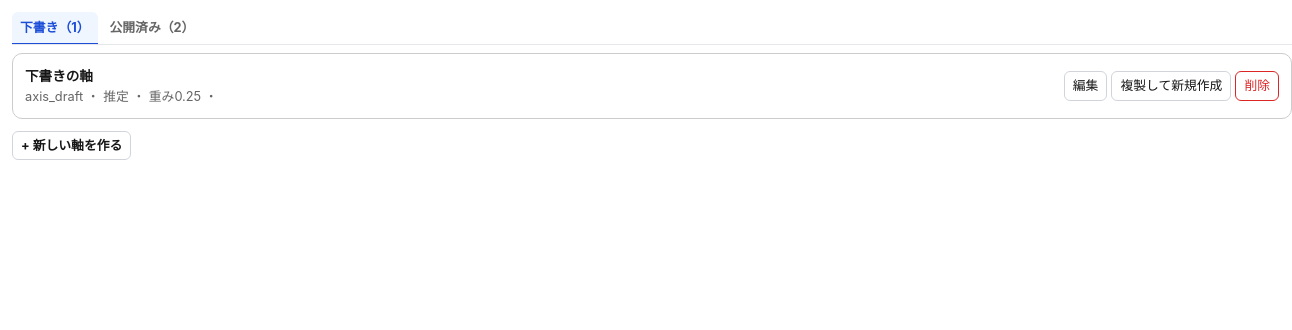
公開済みの軸を「調整する」 › 下書きへ戻せなければ、理由を出してフォームを開かない
Step 1. Click the tab "公開済み（2）" → (152, 29), box x1=102 y1=12 x2=202 y2=45
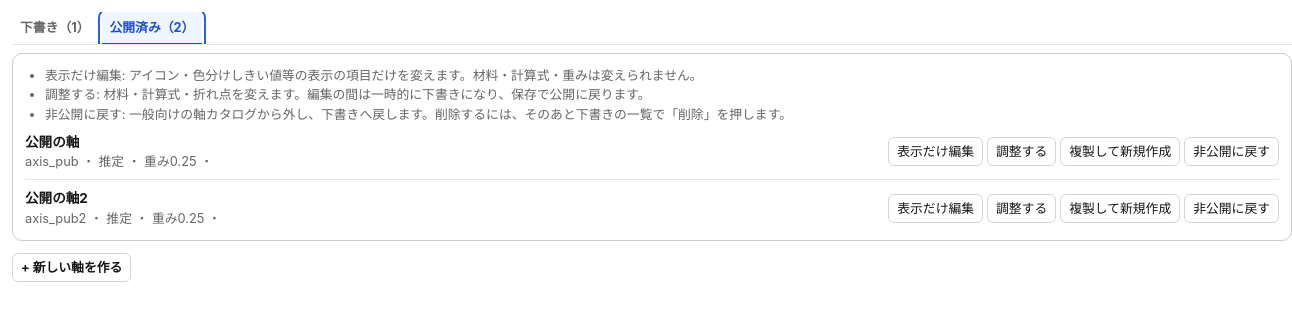
Step 2. Click the 1st button "調整する" → (1022, 152), box x1=987 y1=137 x2=1056 y2=166
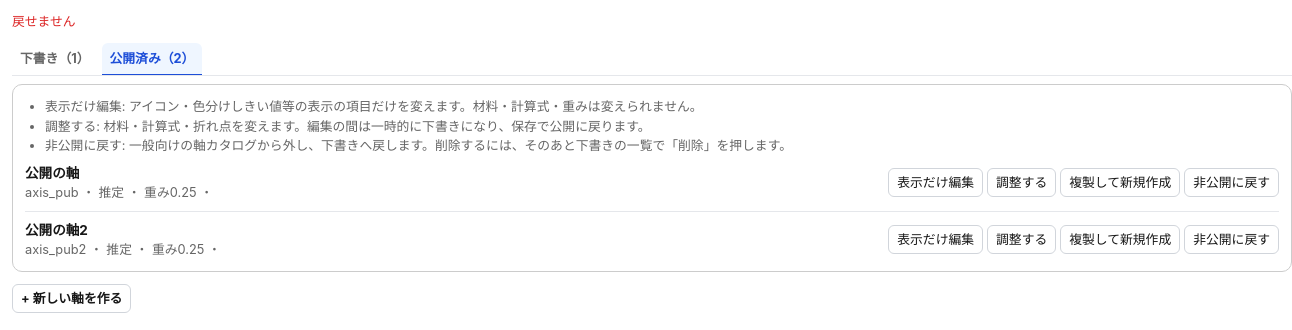
Expected: the text "戻せません" is shown, x1=12 y1=14 x2=76 y2=29
